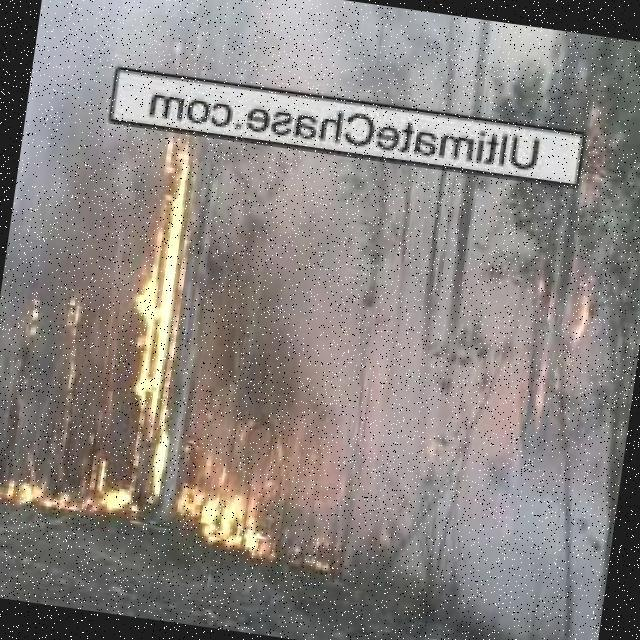Fire: (101, 73, 218, 462), (0, 440, 302, 556), (557, 277, 601, 365)
